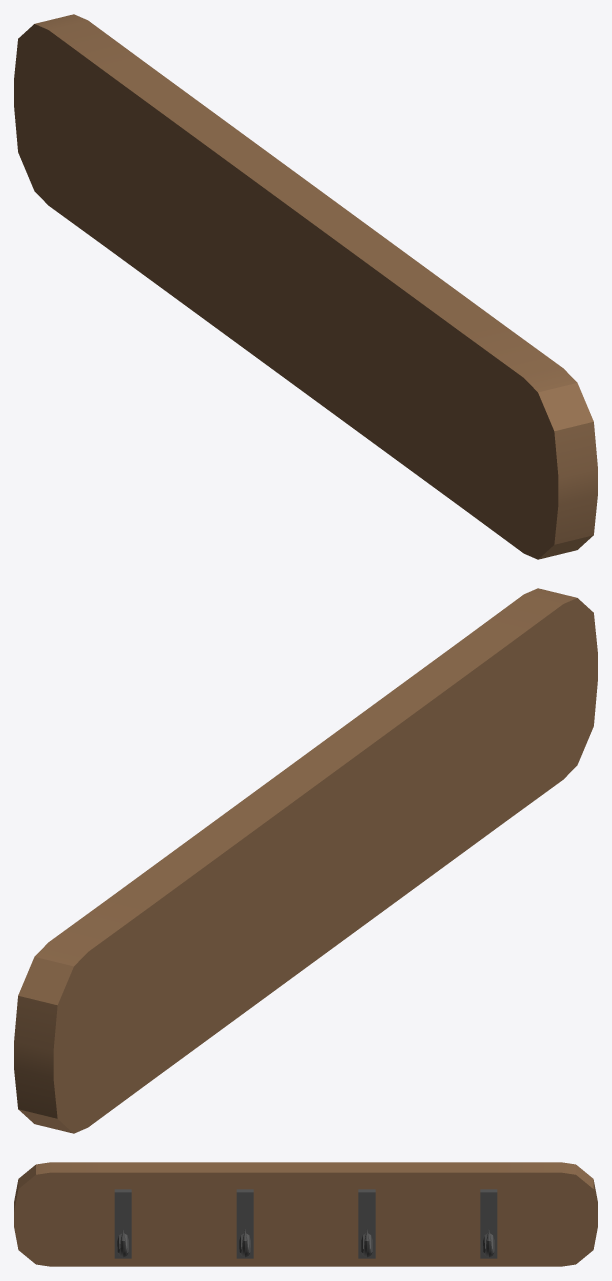
File: zakazi.fbx
3 views of the same model, one above another, from view 1: azimuth 30°, elevation 25°; view 2: azimuth 150°, elevation 25°; view 3: azimuth 270°, elevation 25° (orthographic). The views are drawn at different scales.
Parts seen in each view (by area): view 1: Cylinder; view 2: Cylinder; view 3: Cylinder.
Part boxes in pixels (x1,y1,x2,y2): Cylinder: (14, 14, 597, 559); Cylinder: (14, 588, 597, 1133); Cylinder: (14, 1162, 597, 1266).
Size of the model in its own units: 0.246 by 0.3872 by 2.18.
